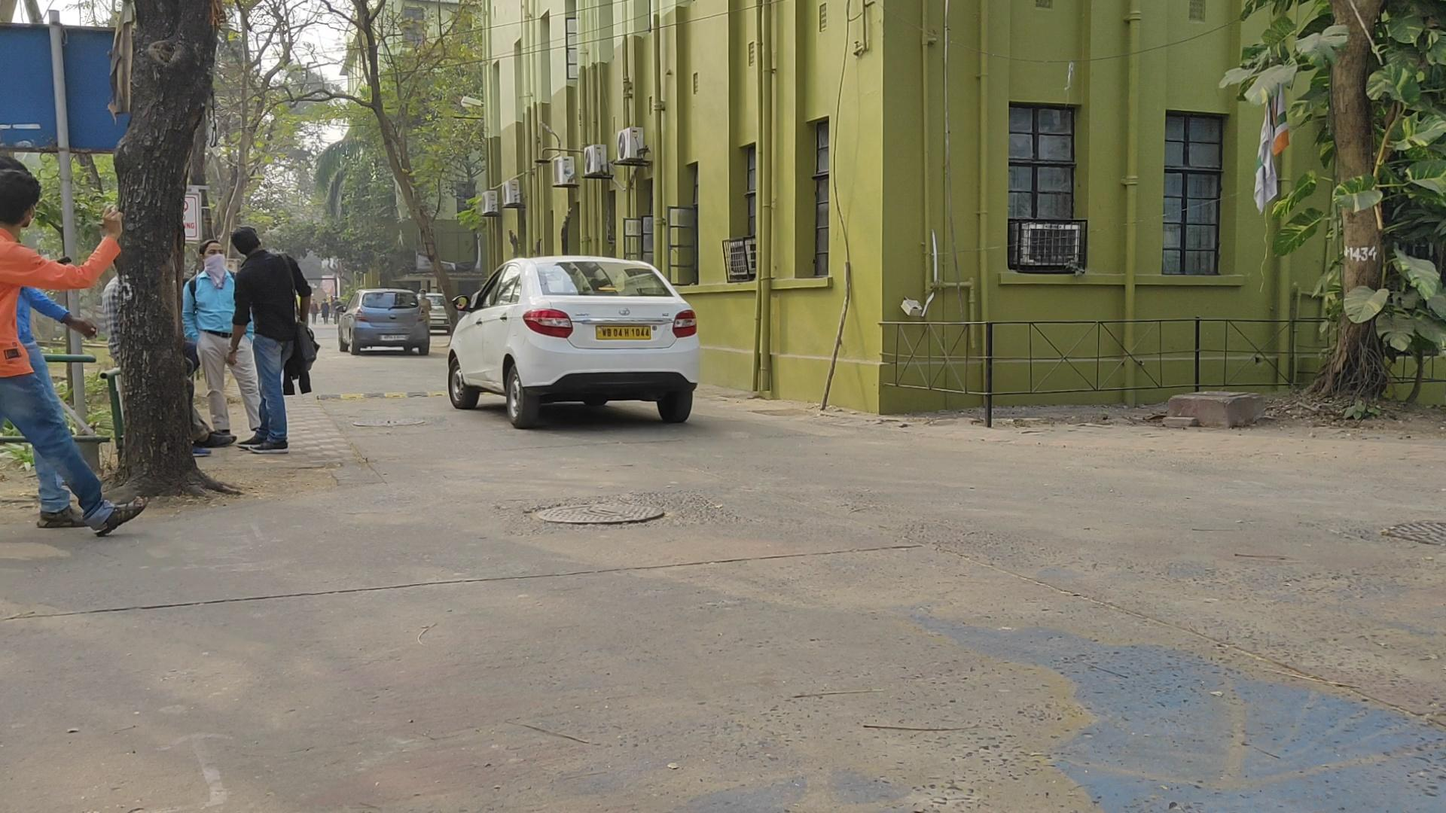car: (448, 257, 704, 428), (336, 288, 434, 361)
